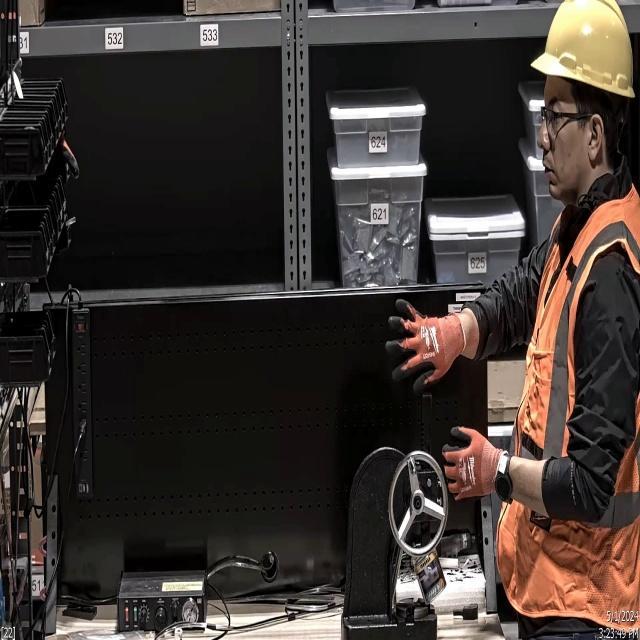construction-gloves: (388, 296, 483, 389), (438, 422, 506, 506)
